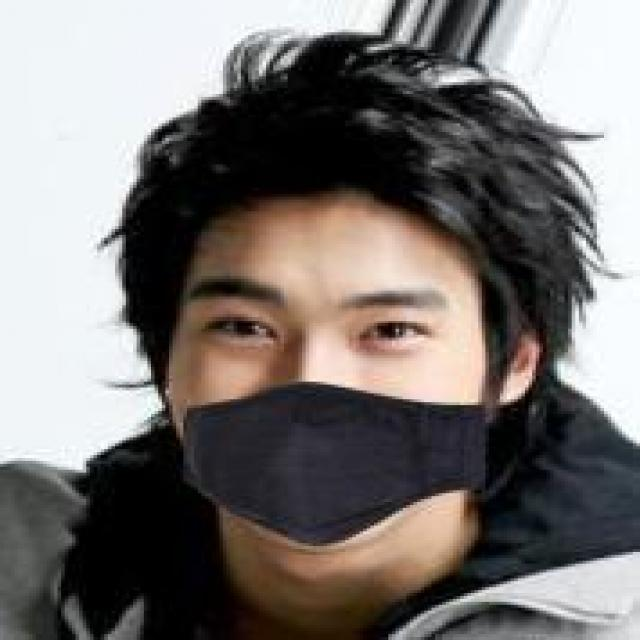mask: (97, 73, 575, 564)
